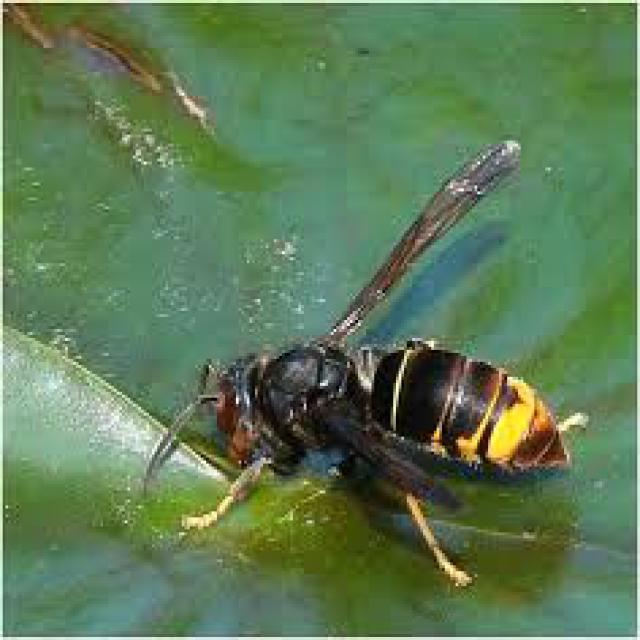Vespa Velutina: (127, 130, 595, 609)
